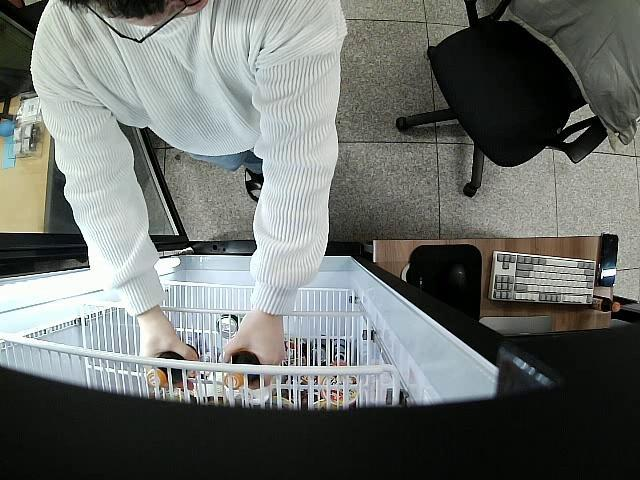17_vita500: (144, 345, 200, 388), (224, 350, 261, 389)
